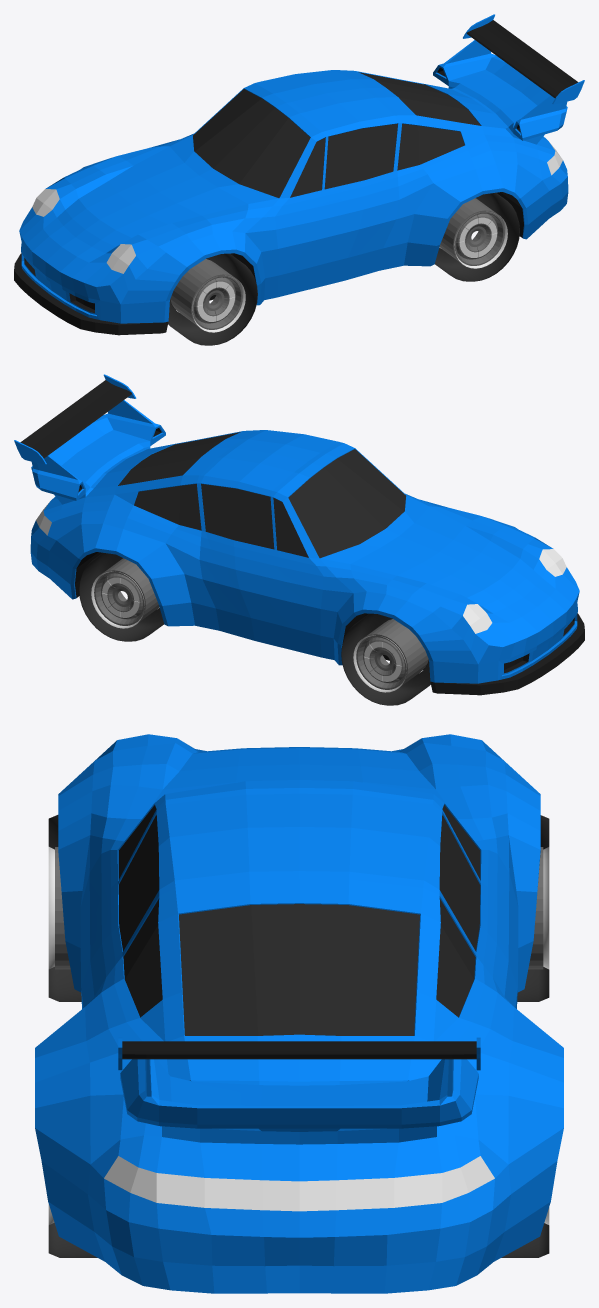
File: car_911.fbx
The picture shows the model from 3 angles, top to bottom: view 1: azimuth 30°, elevation 25°; view 2: azimuth 150°, elevation 25°; view 3: azimuth 270°, elevation 25°; orthographic projection. The views are drawn at different scales.
Parts seen in each view (by area): view 1: Plane.014, Шина.001, Шина; view 2: Plane.014, Шина.002, Шина.003; view 3: Plane.014, Шина.001, Шина.002, Шина, Шина.003.
Part boxes in pixels (x1=…): Plane.014: x1=14, y1=14, x2=584, y2=335; Шина.001: x1=168, y1=253, x2=257, y2=345; Шина: x1=435, y1=192, x2=519, y2=281; Plane.014: x1=14, y1=374, x2=584, y2=695; Шина.002: x1=341, y1=613, x2=430, y2=705; Шина.003: x1=79, y1=553, x2=163, y2=641; Plane.014: x1=35, y1=734, x2=563, y2=1293; Шина.001: x1=48, y1=815, x2=81, y2=1001; Шина.002: x1=517, y1=815, x2=549, y2=1001; Шина: x1=48, y1=1204, x2=97, y2=1257; Шина.003: x1=501, y1=1207, x2=549, y2=1257.
Size of the model in its own units: 510 by 162 by 234.
